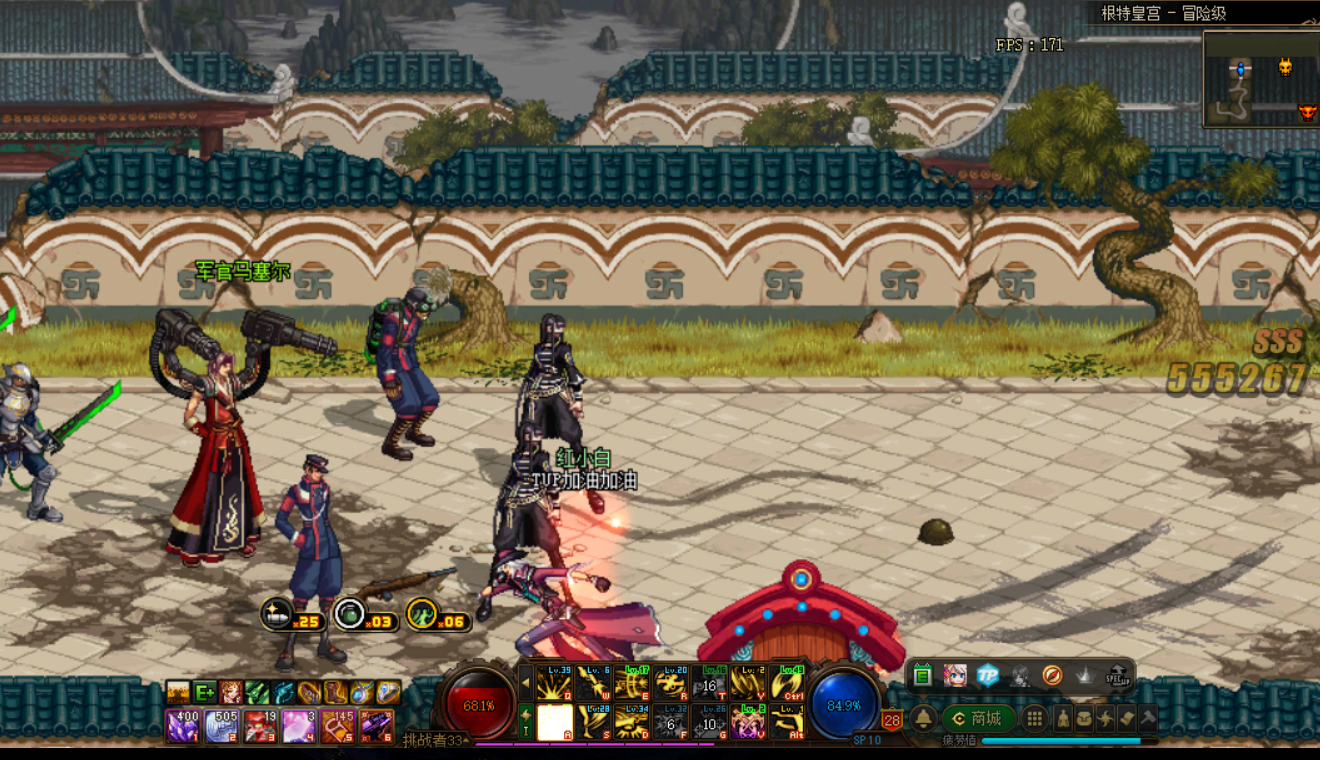monster: (143, 284, 338, 569), (489, 420, 614, 637), (504, 308, 613, 528), (4, 342, 125, 521), (357, 270, 453, 466), (271, 457, 358, 667)
warrior: (473, 545, 678, 673)
